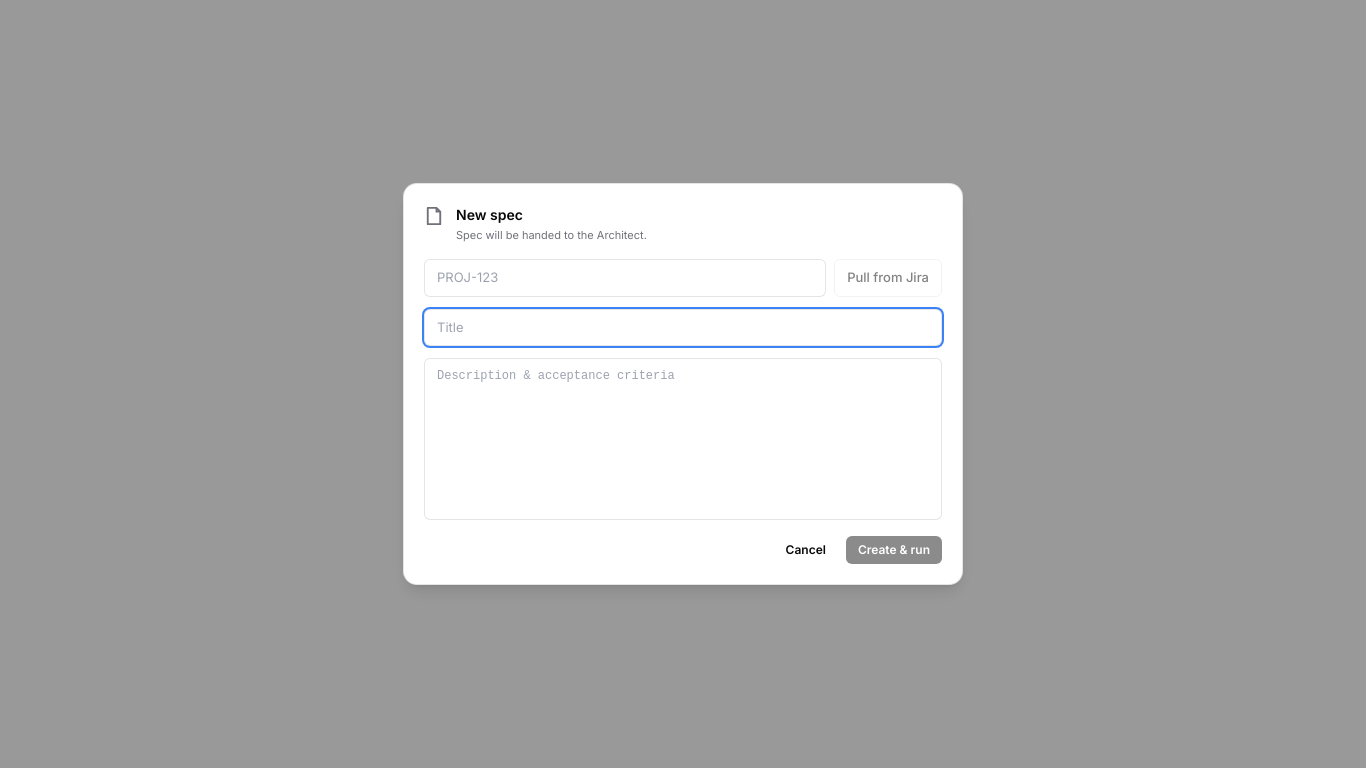
Test: SpecDialog › jira-pull row › renders the missing-env error inline
Type "PROJ-1" into the field with test id "spec-dialog-jira-key-input".
click(625, 278); type("PROJ-1")  # box [424,259,826,297]
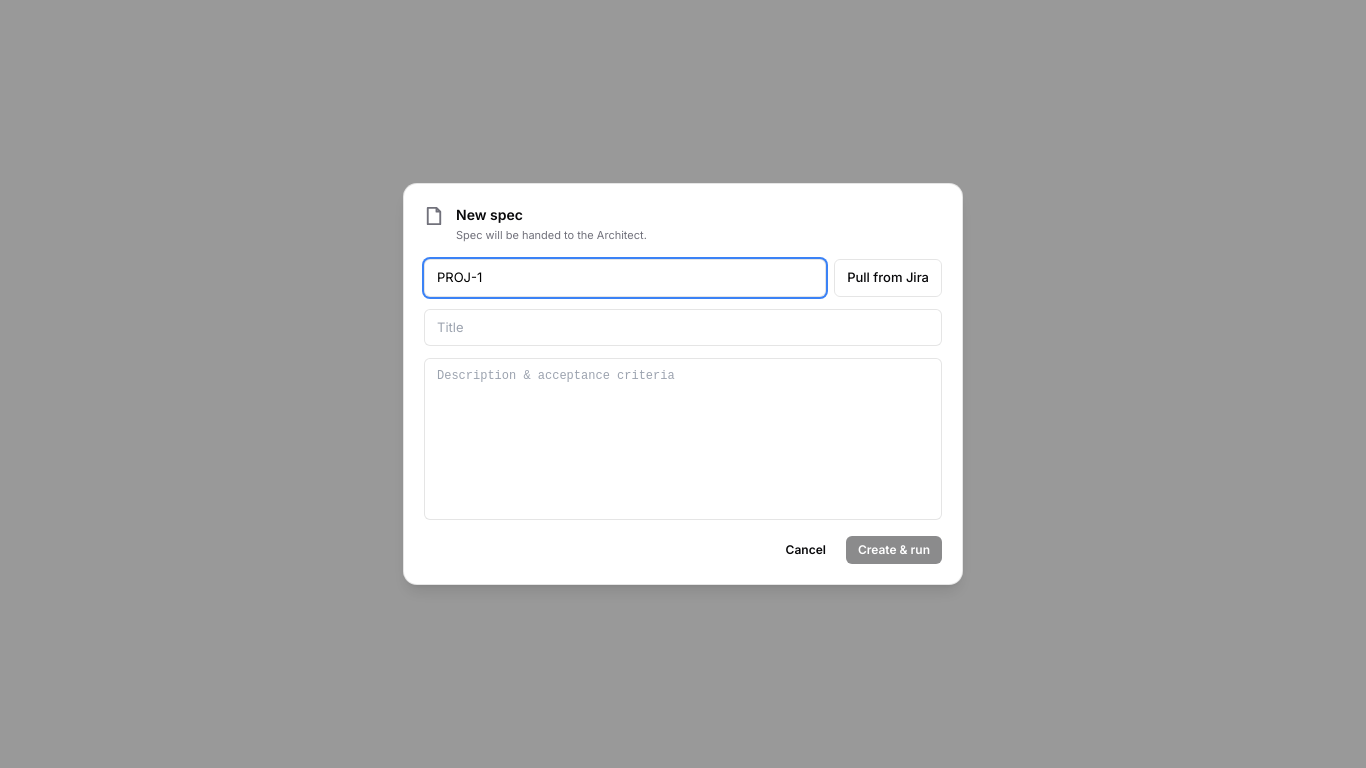
Click the button with test id "spec-dialog-jira-pull-button".
click(888, 278)  # box [834,259,942,297]
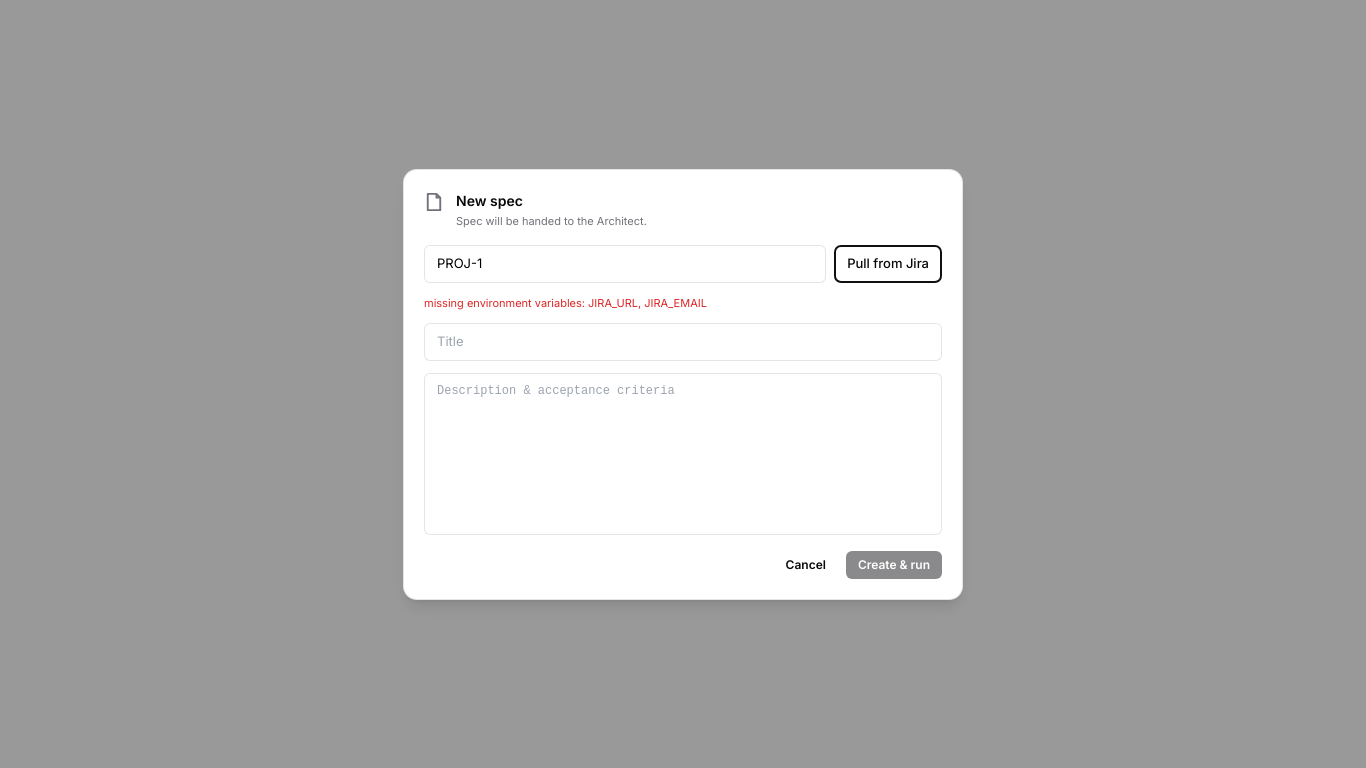
Result: the text with test id "spec-dialog-jira-pull-error" reads "missing environment variables: JIRA_URL, JIRA_EMAIL" at [424,296,707,310]
